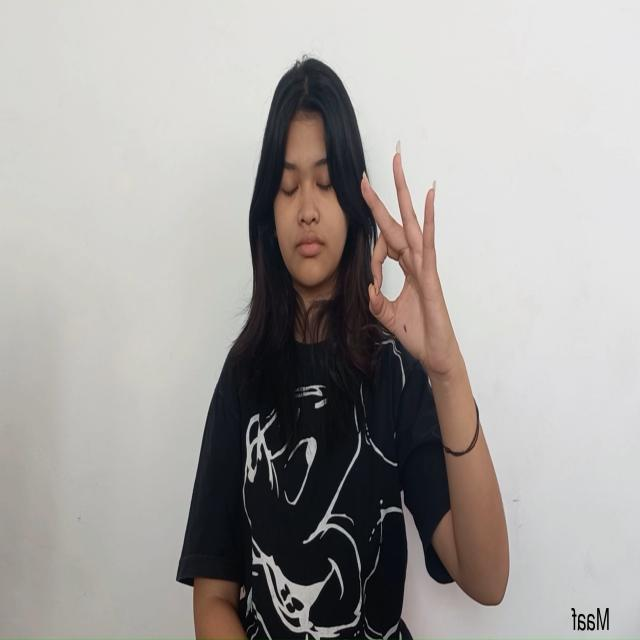Maaf -BISINDO-: (359, 138, 464, 400)
